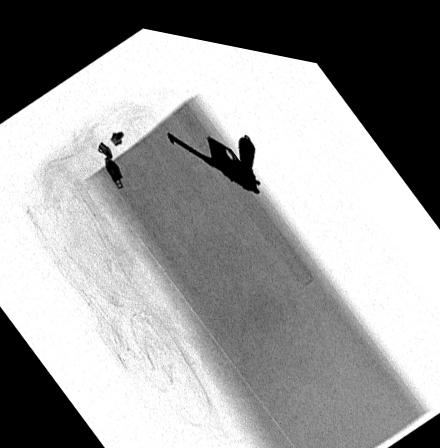Gun: (165, 124, 256, 180)
